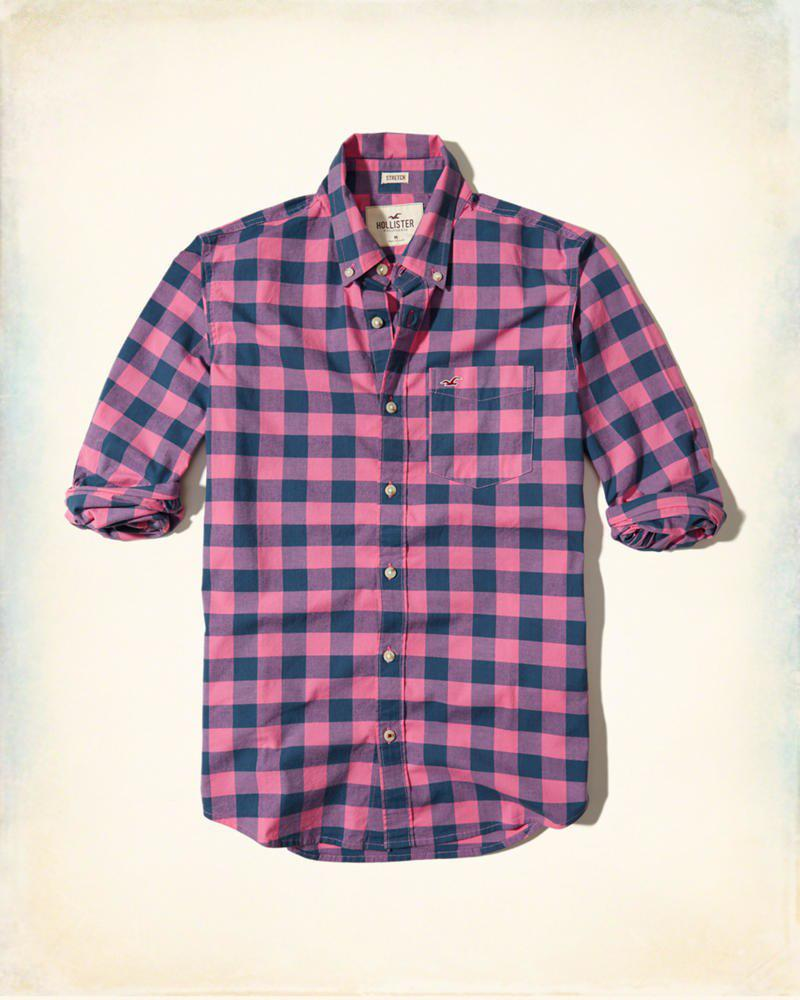teeshirt: (65, 122, 739, 865)
